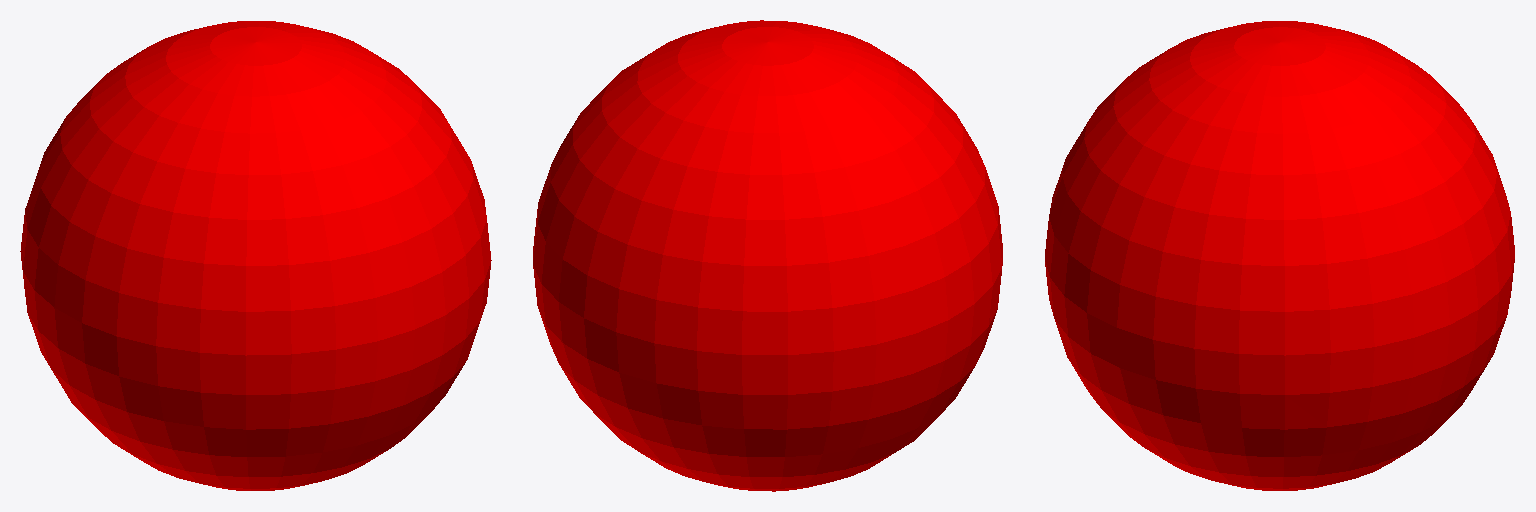
robot.urdf — hockey_ball:
<?xml version="1.0"?>
<robot name="hockey_ball">
    <link name="robot_base">
        <inertial>
            <origin xyz="0.258245 -0.188135 0.013814" rpy="3.141591 3.141592 -1.549853" />
            <inertia izz="7.8400008791965e-06" iyy="7.8400008791965e-06" iyz="0.0" ixx="7.8400008791965e-06" ixy="0.0" ixz="0.0" />
            <mass value="0.10000000149012" />
        </inertial>
        <collision name="hockey_ball">
            <origin xyz="0.258245 -0.188135 0.013814" rpy="3.141591 3.141592 -1.549853" />
            <geometry>
                <sphere radius="0.014000000432134" />
            </geometry>
        </collision>
        <visual name="hockey_ball">
            <origin xyz="0.258245 -0.188135 0.013814" rpy="3.141591 3.141592 -1.549853" />
            <geometry>
                <sphere radius="0.014000000432134" />
            </geometry>
            <material name="robot_base_material">
                <color rgba="1.000000 0.000000 0.000000 1.0" />
            </material>
        </visual>
    </link>
</robot>

--- What the picture shows (computed from the rendered views, not written in the file) ---
3 views of the same robot in one strip: view 1: azimuth 30°, elevation 25°; view 2: azimuth 150°, elevation 25°; view 3: azimuth 270°, elevation 25° (orthographic).
Robot: hockey_ball — 1 links, 0 joints (none); root link robot_base; default pose: all joints at 0.
Visible links, largest first — view 1: robot_base; view 2: robot_base; view 3: robot_base.
Boxes of the visible links, box(x1,y1,x2,y2) form: robot_base: box(20, 21, 491, 490); robot_base: box(533, 20, 1002, 491); robot_base: box(1045, 21, 1514, 490).
Bounding box of the posed robot: 0.028 × 0.028 × 0.028 m (x, y, z).
Geometry: primitives only (box / cylinder / sphere), no mesh files.
